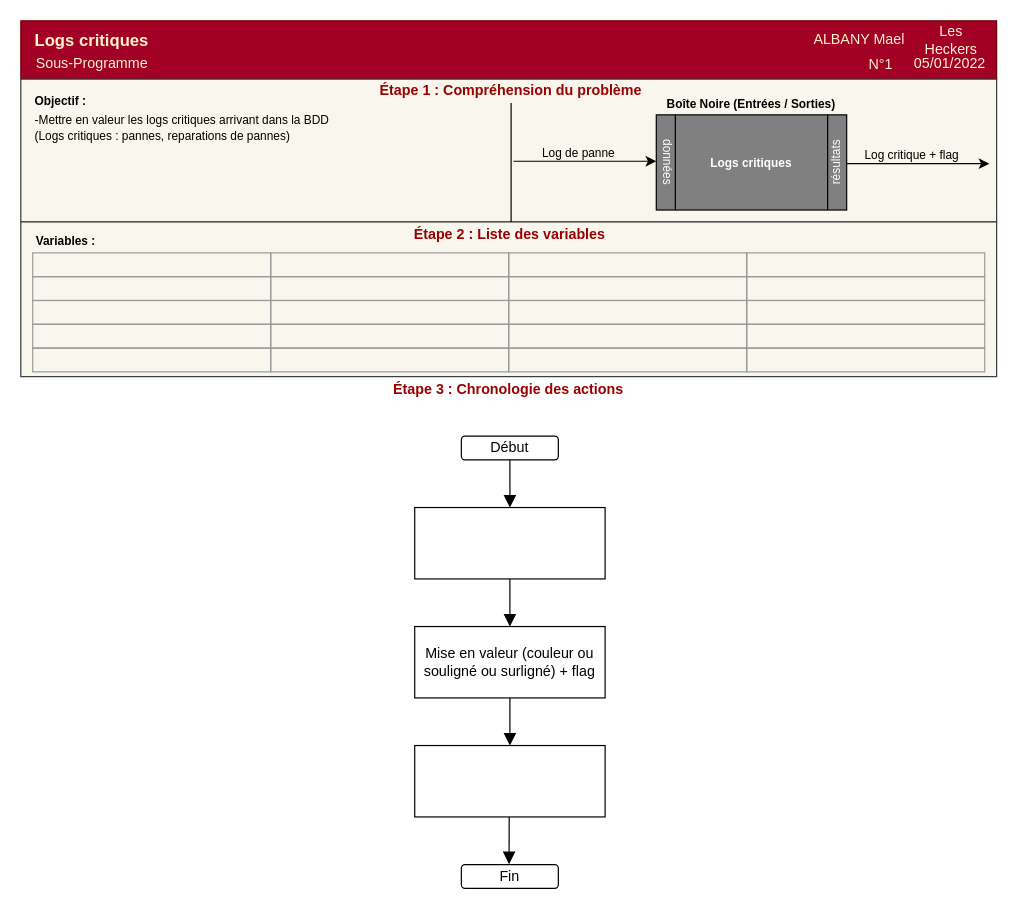
Image size: 1020x909. Some labels were removed from this diagram. Each missing label, with the box of its shape:
Réception de log: (414, 506, 605, 579)
Transmission BDD pour stockage: (414, 744, 605, 817)
